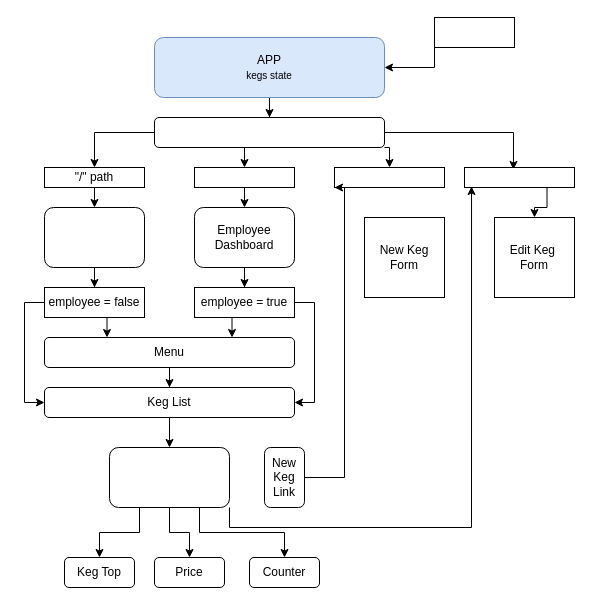
Some shapes in this 592 by 605 pixel diagram are drawn without their labels. Here are the shapes that lost their labels. From the top down, the centre of each, then its label:
(x=474, y=32): Header
(x=269, y=132): ROUTER
(x=244, y=177): "/emp" path
(x=389, y=177): "/new_keg" path
(x=519, y=177): "/edit_keg" path
(x=94, y=237): Patron Dashboard
(x=169, y=477): Keg
